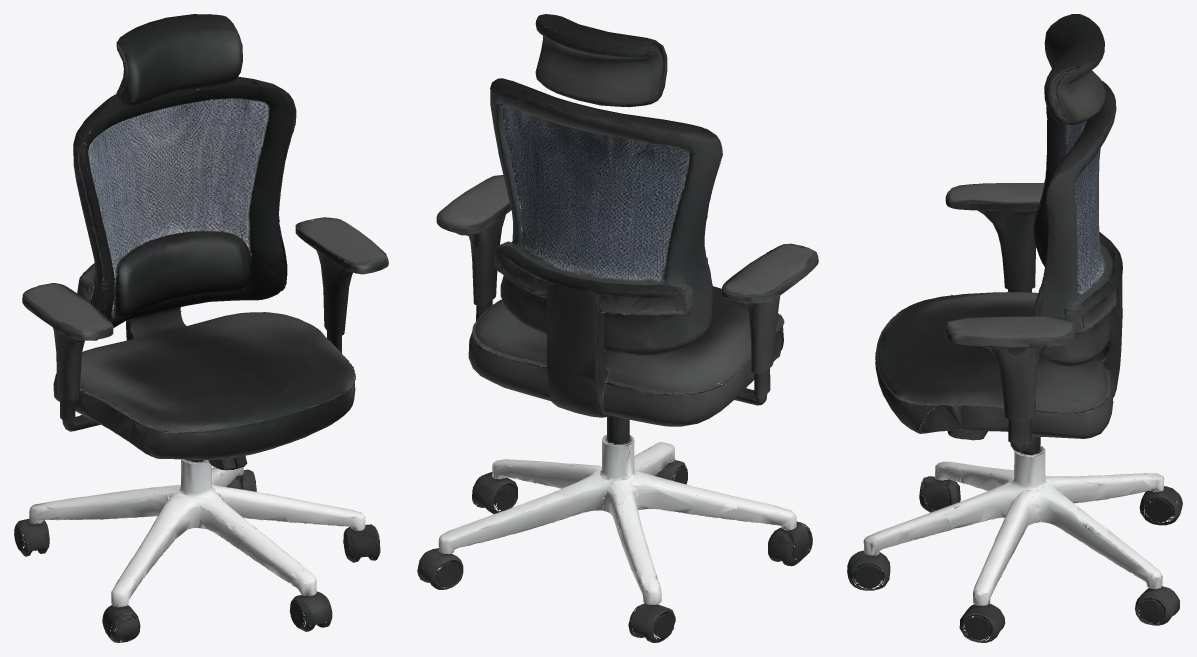
Rendered from chair.glb.
3 renders of one model, left to right at view 1: azimuth 30°, elevation 25°; view 2: azimuth 150°, elevation 25°; view 3: azimuth 270°, elevation 25°, orthographic. The views are drawn at different scales.
Visible parts, largest first — view 1: model; view 2: model; view 3: model.
Boxes of the visible parts, box(x1,y1,x2,y2) form: model: box(14, 14, 388, 642); model: box(417, 14, 818, 642); model: box(847, 14, 1182, 642).
Bounding box in the file's own units: 1.21 × 1.9 × 1.08.
Materials: 1 (1 with a texture image).
